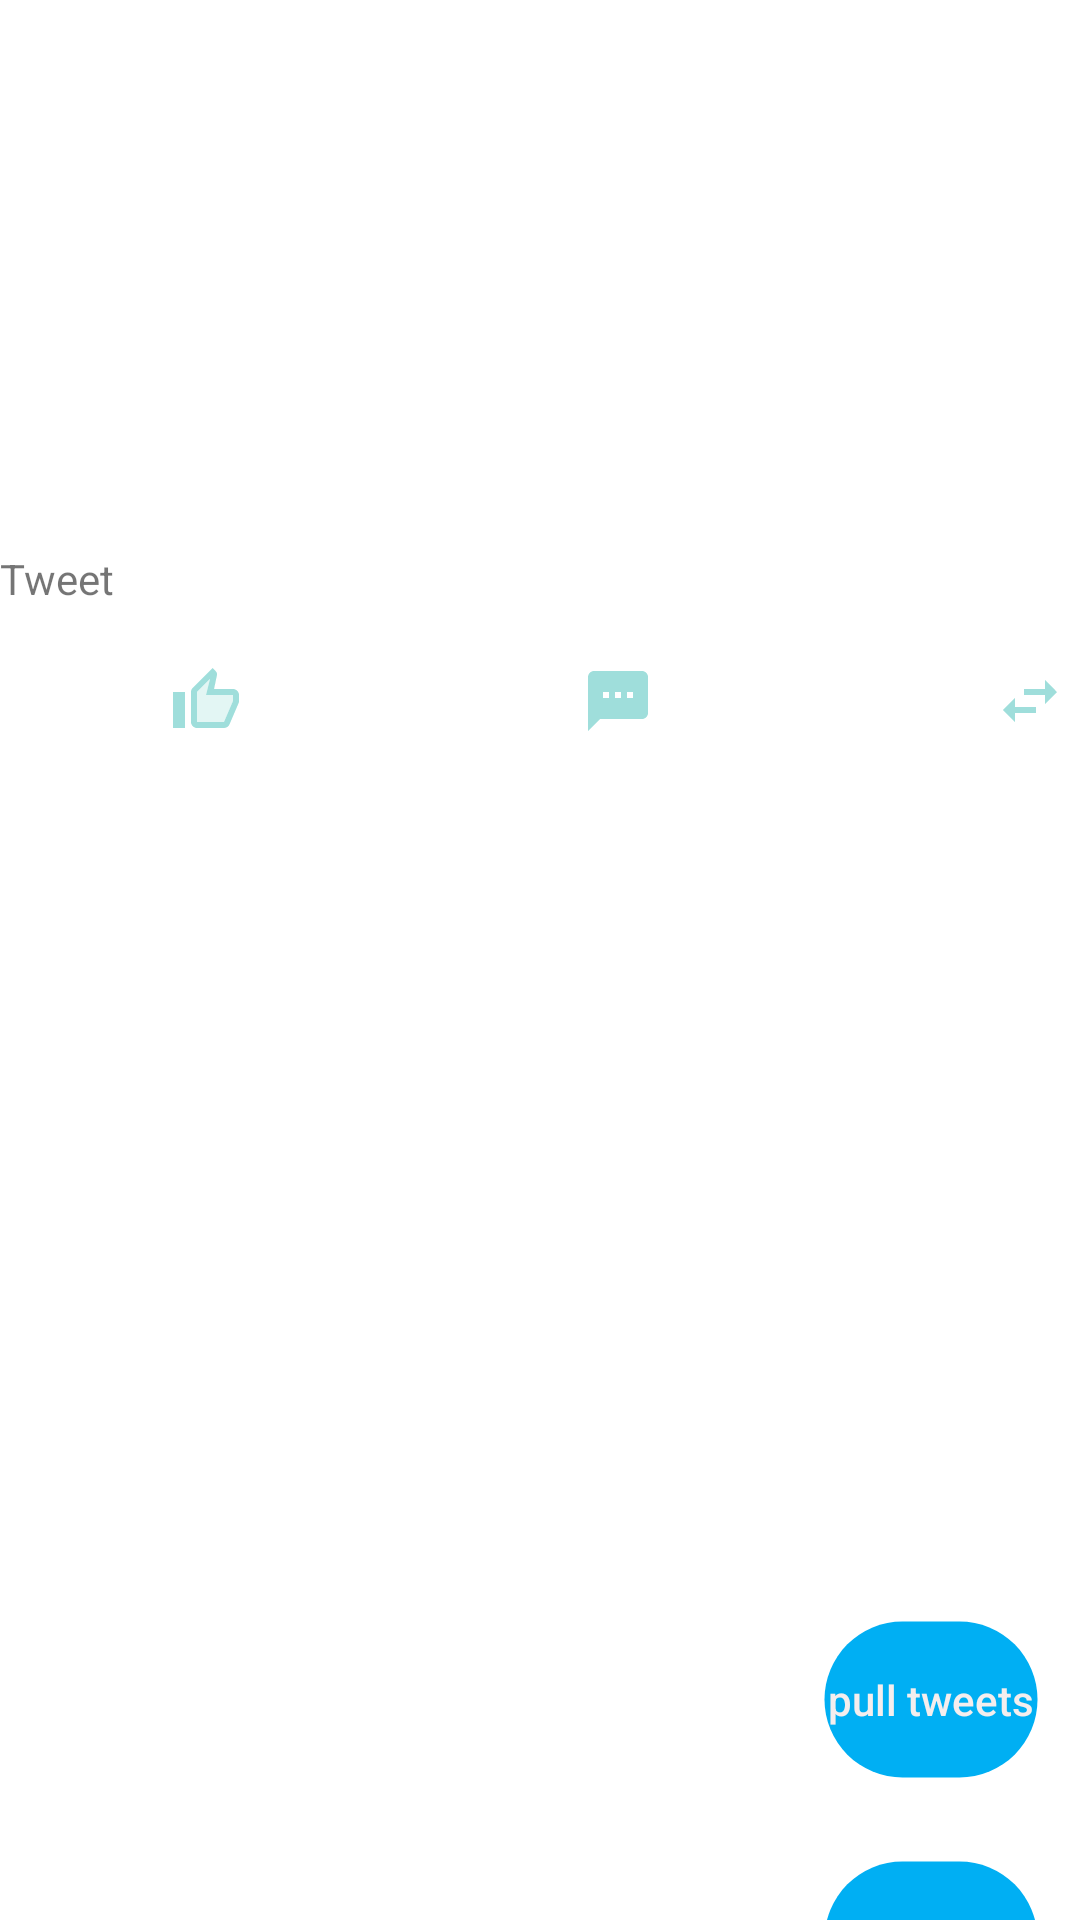

Locate icon controls on the screen. Image size 1080px x 1920px, boxes as (x1, y1, x2, y2).
textsms: (588, 671, 648, 731)
thumb up: (173, 668, 239, 728)
